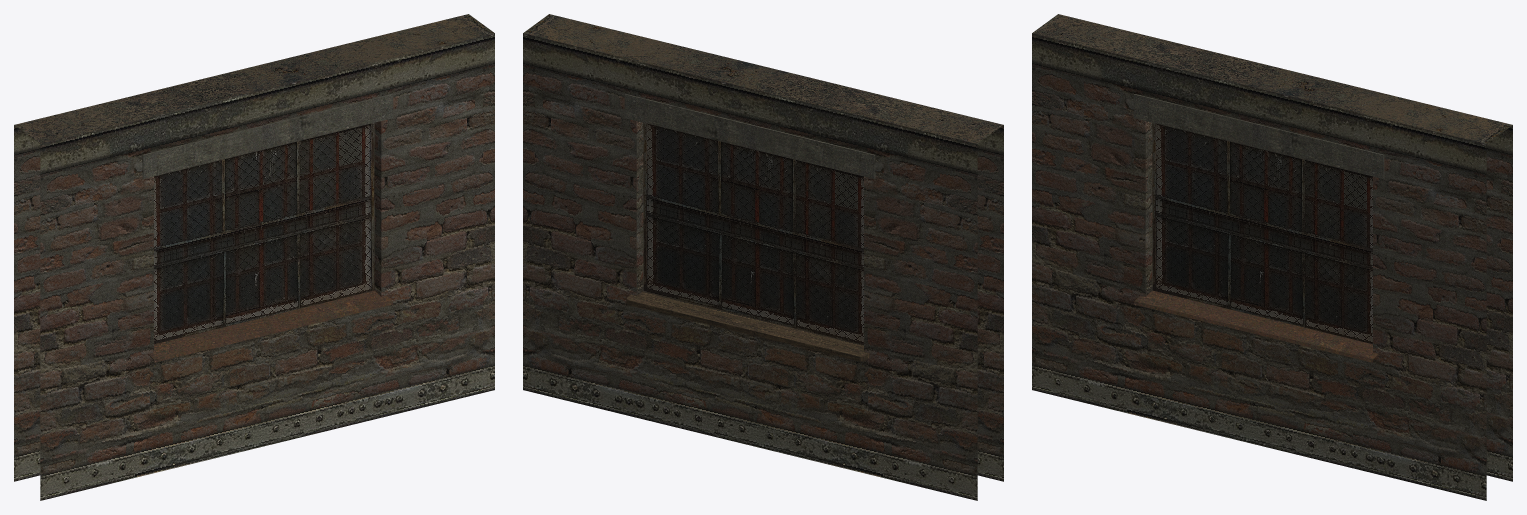
Rendered from window_hr_1.glb.
The picture shows the model from 3 angles, left to right: view 1: azimuth 30°, elevation 25°; view 2: azimuth 150°, elevation 25°; view 3: azimuth 330°, elevation 25°; orthographic projection.
Parts seen in each view (by area): view 1: window_hr_1; view 2: window_hr_1; view 3: window_hr_1.
Boxes of the visible parts, x1,y1,x2,y2 form: window_hr_1: [14, 14, 494, 500]; window_hr_1: [523, 14, 1003, 500]; window_hr_1: [1032, 14, 1512, 500].
Size of the model in its own units: 4 by 3 by 0.595.
Materials: 6 (6 with a texture image).
